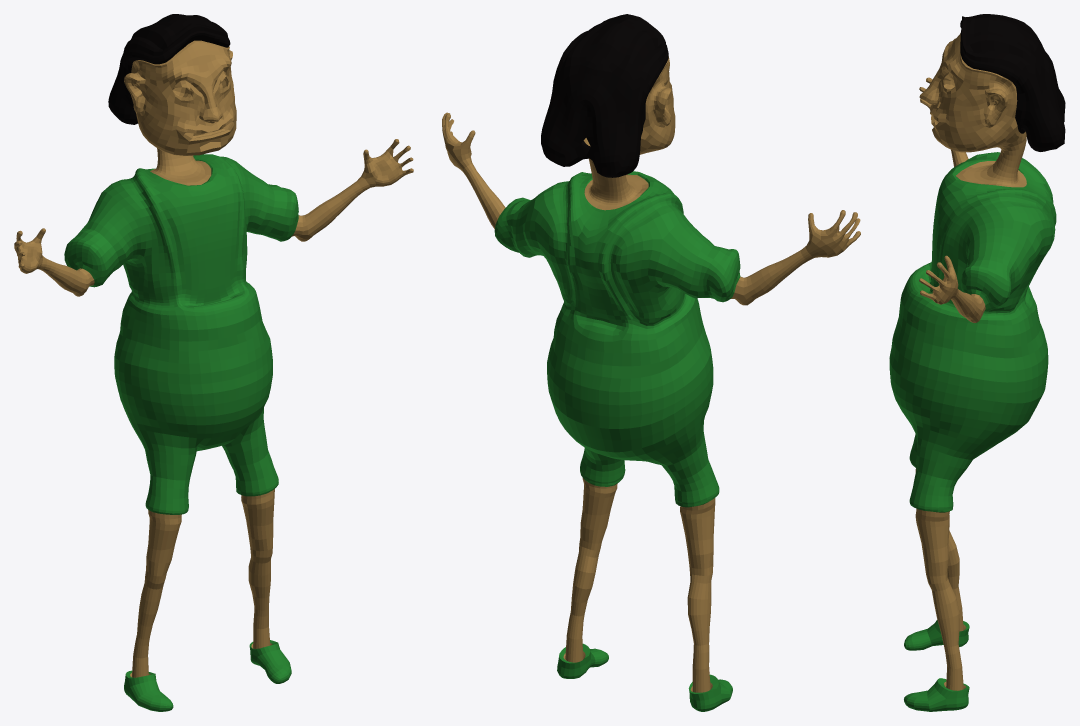
Rendered from younger brother concept 1.color.OBJ.
3 renders of one model, left to right at view 1: azimuth 30°, elevation 25°; view 2: azimuth 150°, elevation 25°; view 3: azimuth 270°, elevation 25°, orthographic. The views are drawn at different scales.
Parts seen in each view (by area): view 1: younger_brother_concept_low_res:ZBrushPolyMesh3D; view 2: younger_brother_concept_low_res:ZBrushPolyMesh3D; view 3: younger_brother_concept_low_res:ZBrushPolyMesh3D.
Part boxes in pixels (x1,y1,x2,y2): younger_brother_concept_low_res:ZBrushPolyMesh3D: [14, 14, 413, 711]; younger_brother_concept_low_res:ZBrushPolyMesh3D: [442, 14, 860, 711]; younger_brother_concept_low_res:ZBrushPolyMesh3D: [889, 14, 1065, 711].
Size of the model in its own units: 78.66 by 124 by 29.99.
